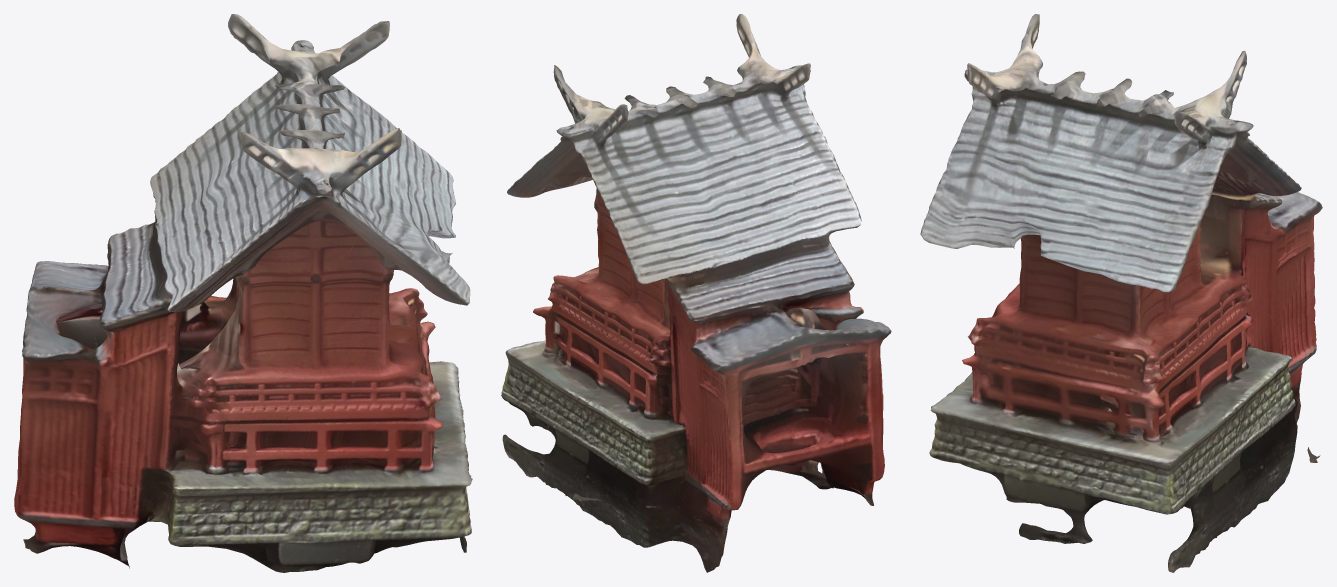
File: zinzya2.glb
3 renders of one model, left to right at view 1: azimuth 30°, elevation 25°; view 2: azimuth 150°, elevation 25°; view 3: azimuth 270°, elevation 25°, orthographic. The views are drawn at different scales.
Parts seen in each view (by area): view 1: 68206d62-116b-4b85-9ca6-bbfa0c2f498c; view 2: 68206d62-116b-4b85-9ca6-bbfa0c2f498c; view 3: 68206d62-116b-4b85-9ca6-bbfa0c2f498c.
Part boxes in pixels (x1,y1,x2,y2): 68206d62-116b-4b85-9ca6-bbfa0c2f498c: (14, 14, 472, 572); 68206d62-116b-4b85-9ca6-bbfa0c2f498c: (501, 14, 891, 572); 68206d62-116b-4b85-9ca6-bbfa0c2f498c: (920, 14, 1322, 572).
Size of the model in its own units: 0.67 by 0.7317 by 0.5728.
1 material, 1 textured.
